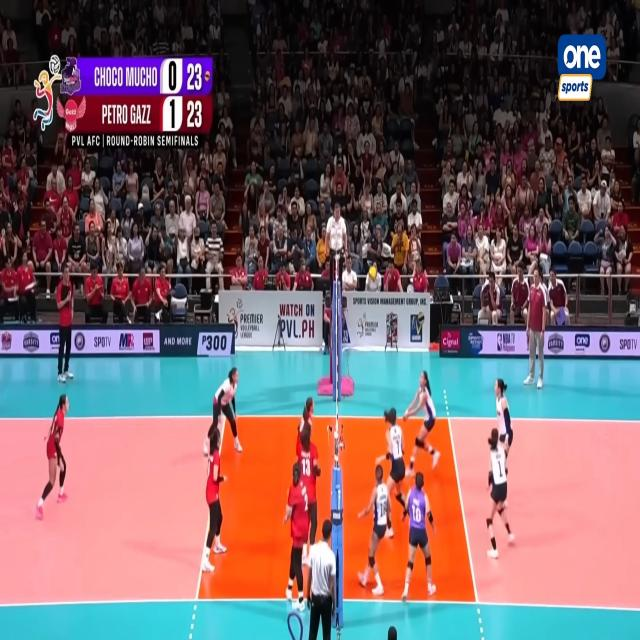Volleyball-Ball: (368, 265, 377, 280)
